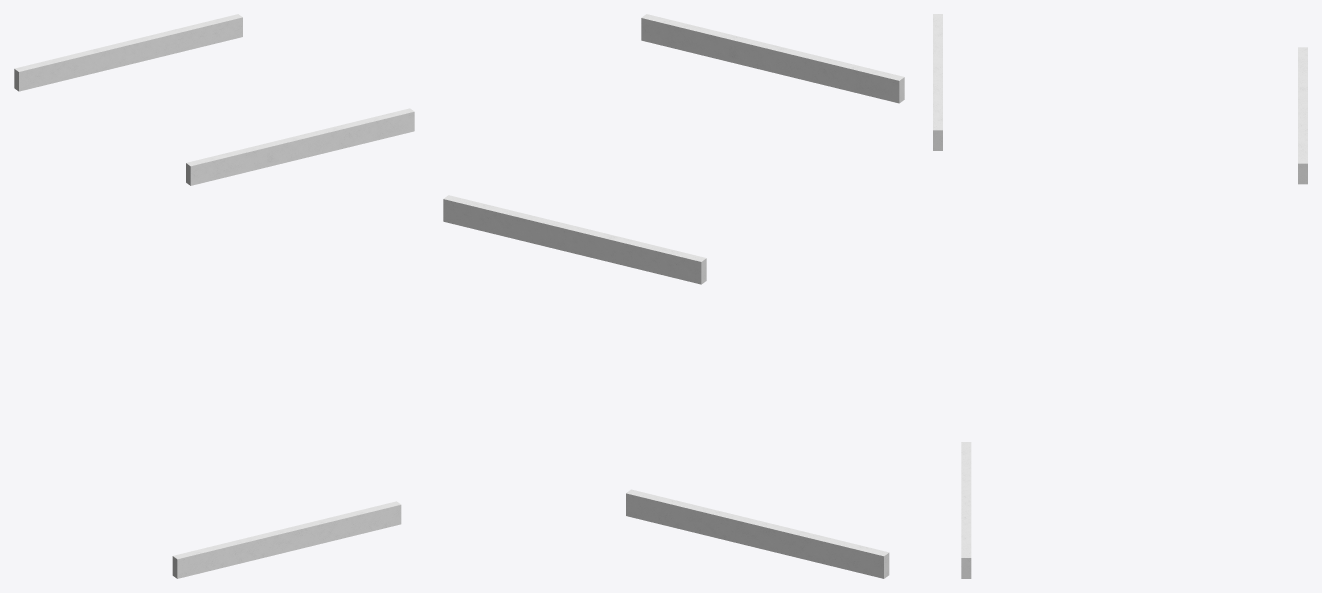
The picture shows the model from 3 angles, left to right: view 1: azimuth 30°, elevation 25°; view 2: azimuth 150°, elevation 25°; view 3: azimuth 270°, elevation 25°; orthographic projection. The views are drawn at different scales.
Bounding box in the file's own units: 0.418 × 0.753 × 0.57.
Materials: 1 (1 with a texture image).
